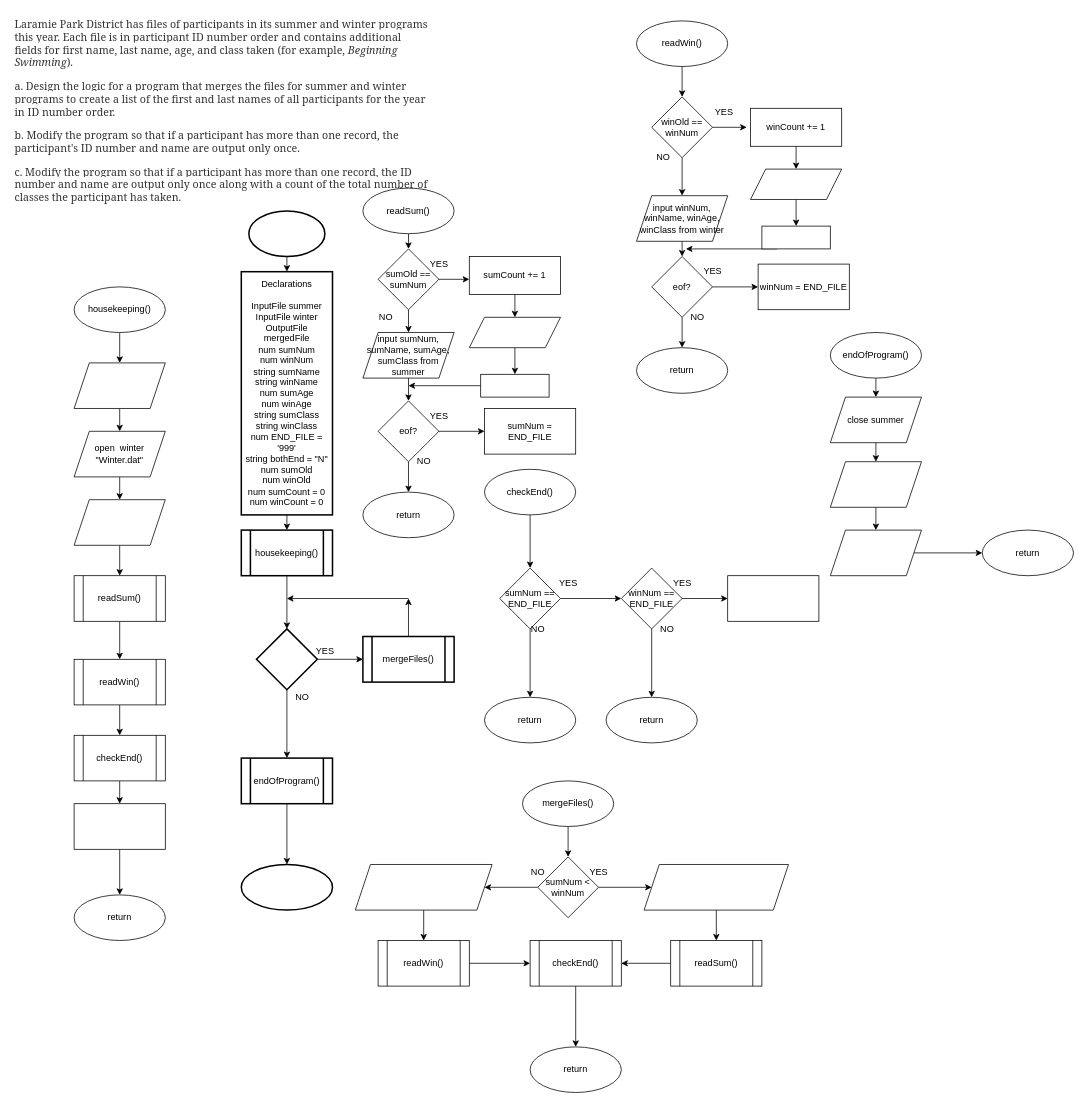
The diagram is 1087 pixels wide and 1106 high, and some of its shapes have lost their labels. Each missing label, with the centre of its shape:
bothEnd <> "Y": point 286,659
bothEnd = "Y": point 773,598
close mergedFile: point 876,552
close winter: point 876,484
open mergedFile "Programs.dat": point 119,522
open summer "Summer.dat": point 119,385
output sumNum, "total classes ", sumCount: point 514,332
output sumNum, sumName, sumAge, sumClass to mergedFile: point 715,887
output winNum, "total classes ", winCount: point 796,184
output winNum, winName, winAge, winClass to mergedFile: point 423,887
start: point 286,233
stop: point 286,886
sumCount = 0: point 514,385
sumOld = sumNum winOld = winNum: point 119,826
winCount = 0: point 795,237
